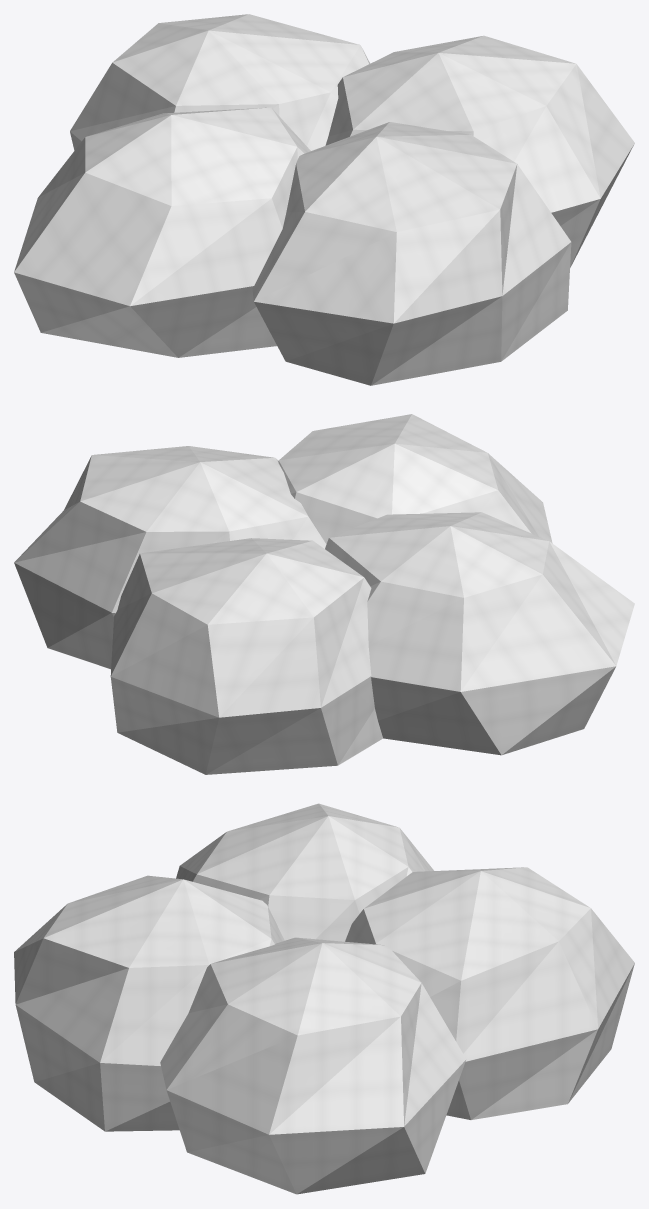
Rendered from item_wool.obj.
The picture shows the model from 3 angles, top to bottom: view 1: azimuth 30°, elevation 25°; view 2: azimuth 150°, elevation 25°; view 3: azimuth 270°, elevation 25°; orthographic projection. The views are drawn at different scales.
Visible parts, largest first — view 1: item_wool; view 2: item_wool; view 3: item_wool.
Boxes of the visible parts, x1=… form: item_wool: x1=14, y1=14, x2=634, y2=385; item_wool: x1=14, y1=414, x2=634, y2=774; item_wool: x1=14, y1=803, x2=634, y2=1194.
Bounding box in the file's own units: 0.6203 × 0.18 × 0.5649.
